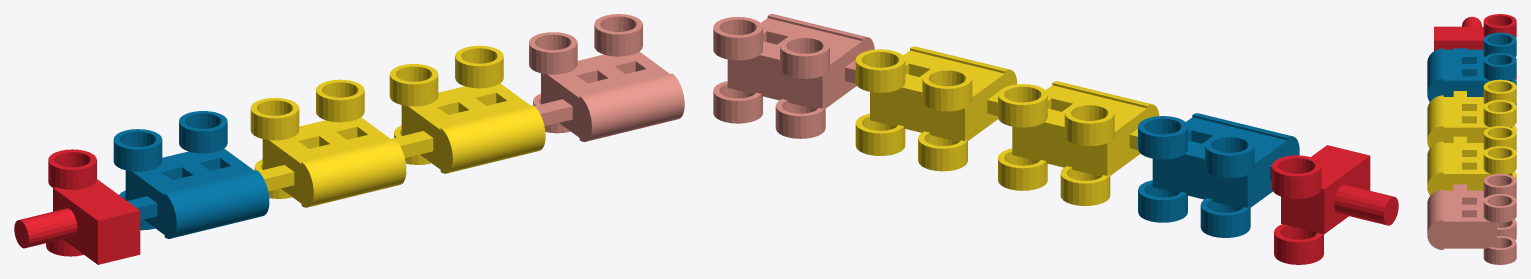
File: tinker.obj
The picture shows the model from 3 angles, left to right: view 1: azimuth 30°, elevation 25°; view 2: azimuth 150°, elevation 25°; view 3: azimuth 270°, elevation 25°; orthographic projection. The views are drawn at different scales.
Visible parts, largest first — view 1: group_0_16768282, group_0_15308428, group_0_30377, group_0_15277357; view 2: group_0_16768282, group_0_15308428, group_0_30377, group_0_15277357; view 3: group_0_16768282, group_0_15308428, group_0_30377, group_0_15277357.
Boxes of the visible parts, box(x1,y1,x2,y2) form: group_0_16768282: box(250, 45, 545, 207); group_0_15308428: box(529, 14, 684, 141); group_0_30377: box(113, 111, 269, 238); group_0_15277357: box(14, 149, 140, 264); group_0_16768282: box(855, 46, 1159, 205); group_0_15308428: box(713, 14, 874, 138); group_0_30377: box(1138, 113, 1299, 237); group_0_15277357: box(1272, 145, 1398, 264); group_0_16768282: box(1427, 79, 1516, 199); group_0_15308428: box(1427, 173, 1516, 264); group_0_30377: box(1427, 32, 1516, 105); group_0_15277357: box(1434, 14, 1516, 79).
Size of the model in its own units: 303 by 42 by 54.
